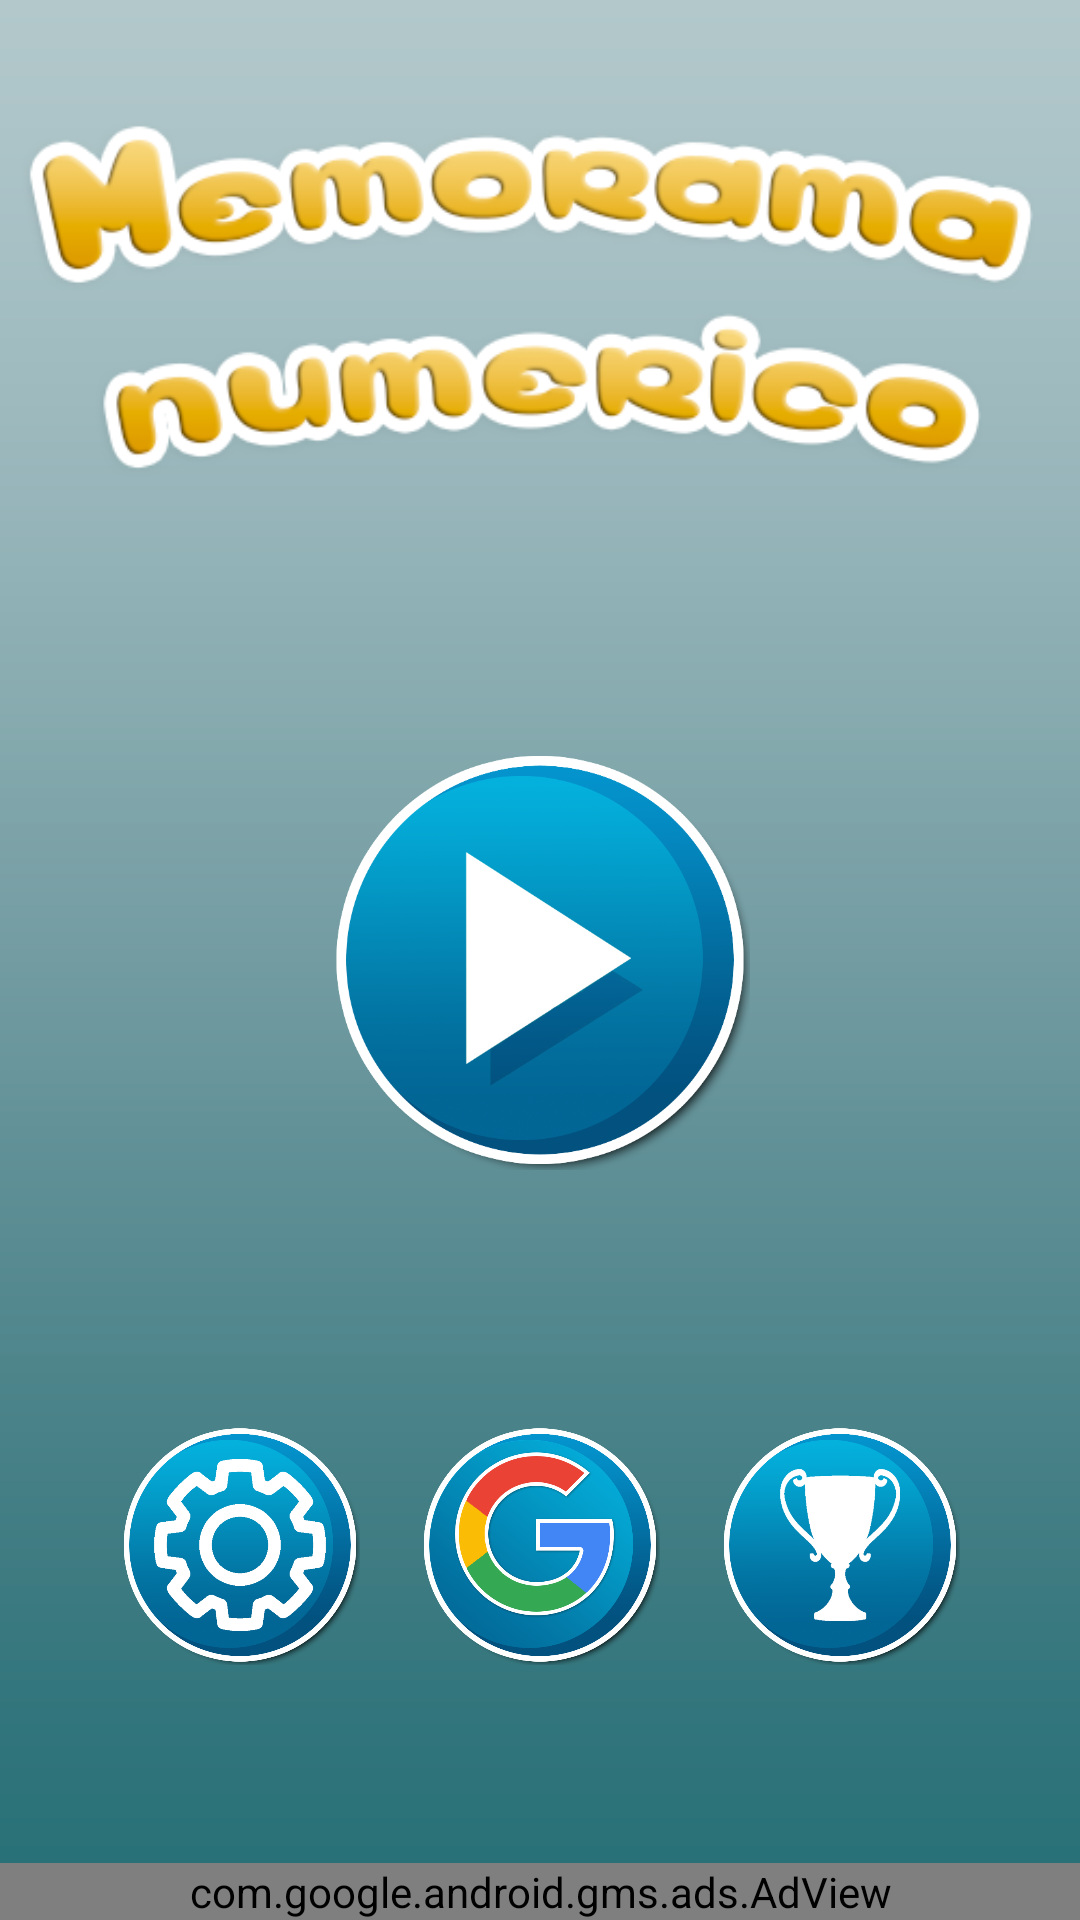

Icons on this 1080×1920 Android screen, each with its box as (x1, y1, x2, y2):
botonajustes: (124, 1428, 359, 1665)
botontrofeos: (724, 1428, 959, 1665)
